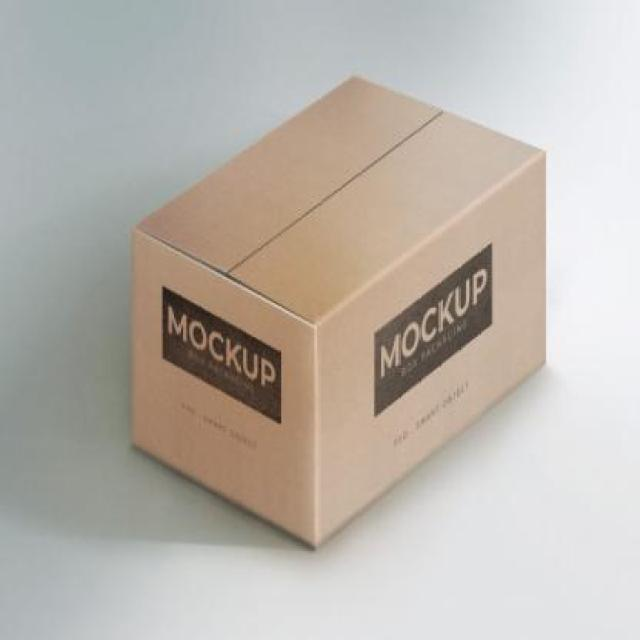box: (126, 64, 552, 560)
